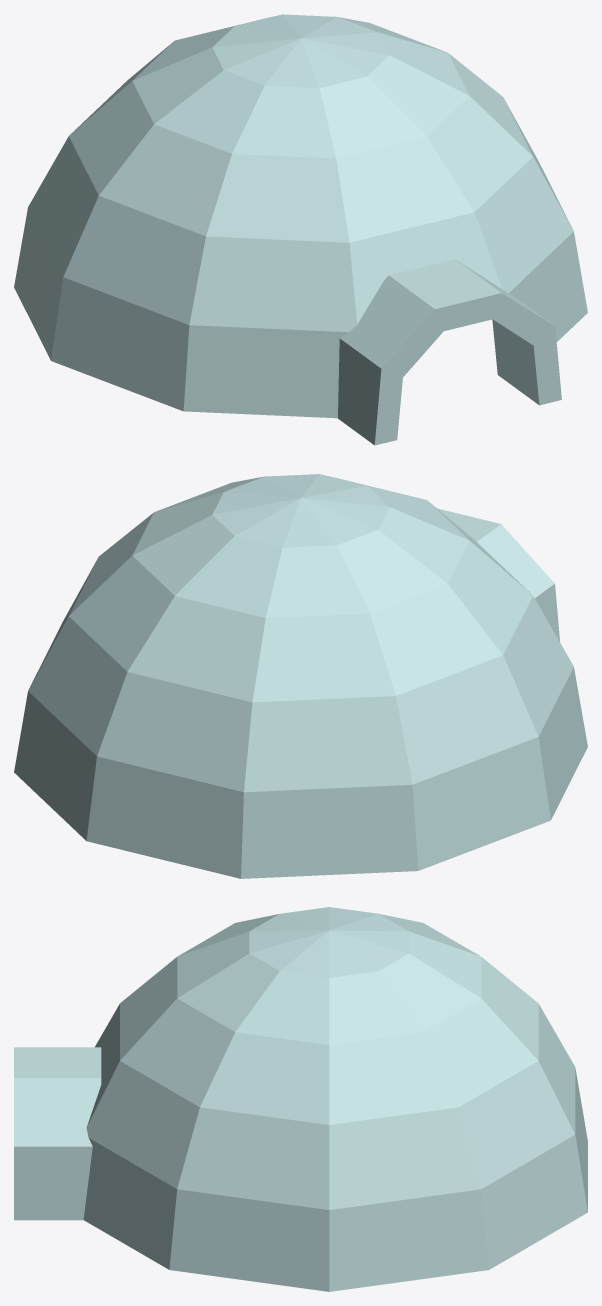
File: Iglo_SellIt_af.fbx
3 views of the same model, one above another, from view 1: azimuth 30°, elevation 25°; view 2: azimuth 150°, elevation 25°; view 3: azimuth 270°, elevation 25° (orthographic). The views are drawn at different scales.
Parts seen in each view (by area): view 1: pSphere1, pCylinder1; view 2: pSphere1, pCylinder1; view 3: pSphere1, pCylinder1.
Boxes of the visible parts, x1,y1,x2,y2 form: pSphere1: (14, 14, 587, 418); pCylinder1: (338, 259, 561, 445); pSphere1: (14, 474, 587, 878); pCylinder1: (437, 508, 559, 641); pSphere1: (83, 907, 587, 1291); pCylinder1: (14, 1047, 101, 1220).
Bounding box in the file's own units: 11.7 × 5.86 × 12.34.
